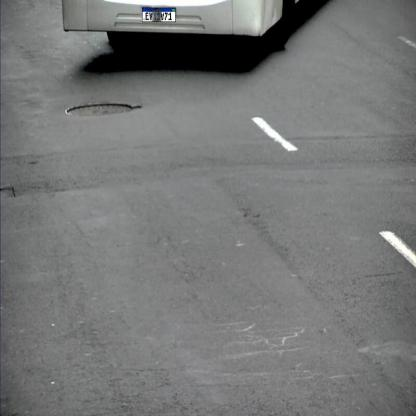PlacaM: (142, 8, 176, 22)
